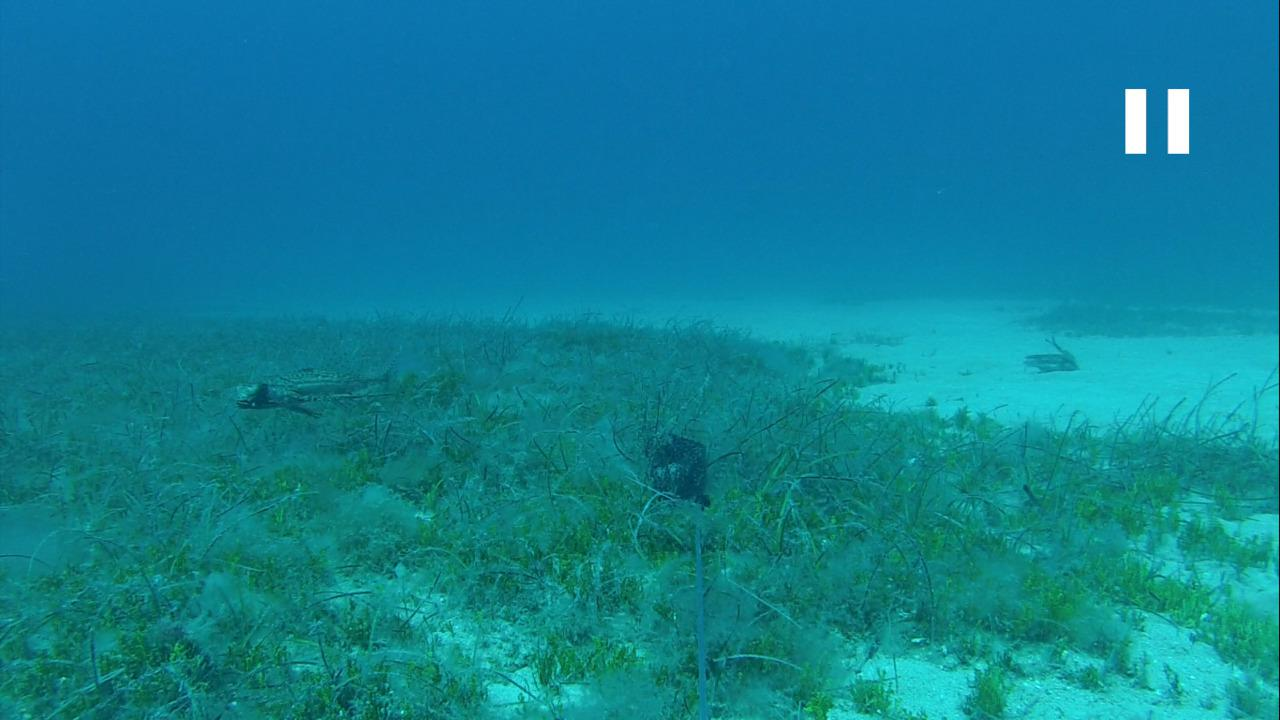dactylopterus: (228, 360, 396, 421)
